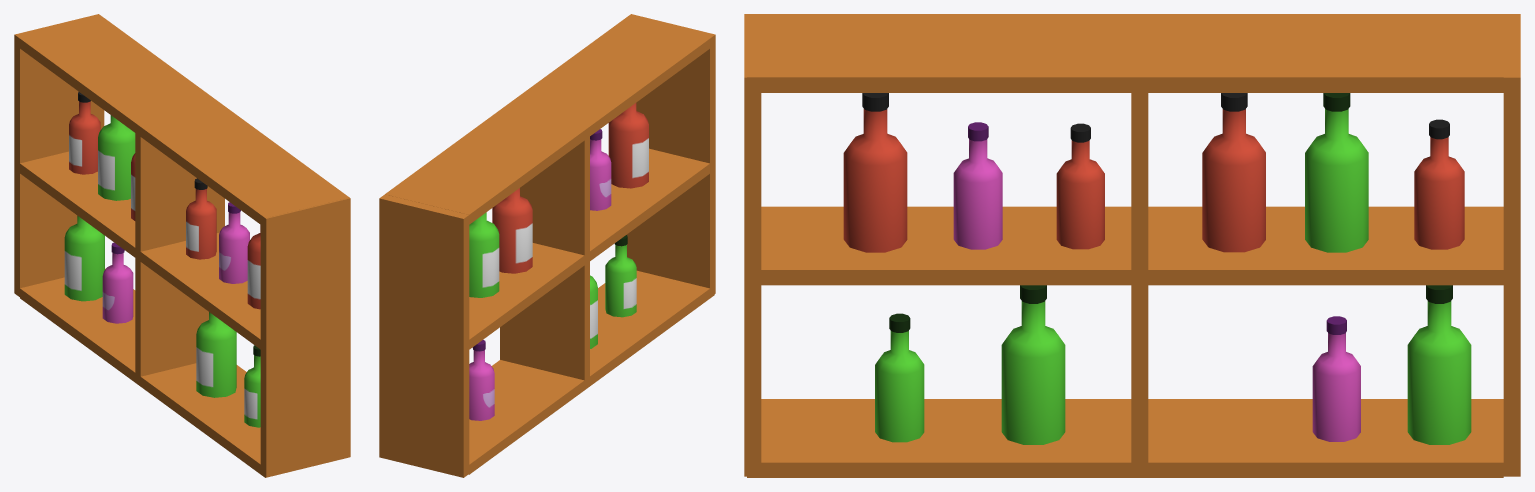
Rendered from ke dung ruou 2.FBX.
The picture shows the model from 3 angles, left to right: view 1: azimuth 30°, elevation 25°; view 2: azimuth 150°, elevation 25°; view 3: azimuth 270°, elevation 25°; orthographic projection. The views are drawn at different scales.
Visible parts, largest first — view 1: Box1916, Cylinder274, Cylinder272, Cylinder270, Cylinder273, Cylinder266, Cylinder269, Cylinder267, Cylinder275, Cylinder268; view 2: Box1916, Cylinder268, Cylinder271, Cylinder270, Cylinder275, Cylinder273, Cylinder267, Cylinder274; view 3: Box1916, Cylinder272, Cylinder274, Cylinder268, Cylinder270, Cylinder271, Cylinder269, Cylinder275, Cylinder267, Cylinder266, Cylinder273.
Part boxes in pixels (box(x1,y1,x2,y2)): Box1916: box(14, 14, 350, 477); Cylinder274: box(196, 312, 236, 397); Cylinder272: box(64, 215, 104, 301); Cylinder270: box(98, 115, 135, 200); Cylinder273: box(102, 242, 133, 323); Cylinder266: box(186, 178, 216, 259); Cylinder269: box(69, 91, 100, 174); Cylinder267: box(219, 202, 249, 283); Cylinder275: box(244, 345, 260, 427); Cylinder268: box(247, 225, 260, 309); Box1916: box(379, 14, 715, 477); Cylinder268: box(608, 103, 648, 188); Cylinder271: box(492, 188, 532, 273); Cylinder270: box(469, 212, 499, 297); Cylinder275: box(605, 235, 636, 317); Cylinder273: box(469, 340, 494, 420); Cylinder267: box(590, 129, 611, 210); Cylinder274: box(590, 275, 597, 348); Box1916: box(744, 14, 1520, 477); Cylinder272: box(1407, 285, 1471, 444); Cylinder274: box(1001, 285, 1065, 444); Cylinder268: box(843, 93, 907, 252); Cylinder270: box(1305, 93, 1368, 252); Cylinder271: box(1202, 93, 1265, 252); Cylinder269: box(1414, 119, 1464, 249); Cylinder275: box(875, 313, 924, 442); Cylinder267: box(953, 122, 1002, 249); Cylinder266: box(1056, 123, 1104, 249); Cylinder273: box(1312, 316, 1360, 441).
Bounding box in the file's own units: 0.7299 × 2.15 × 3.77.
